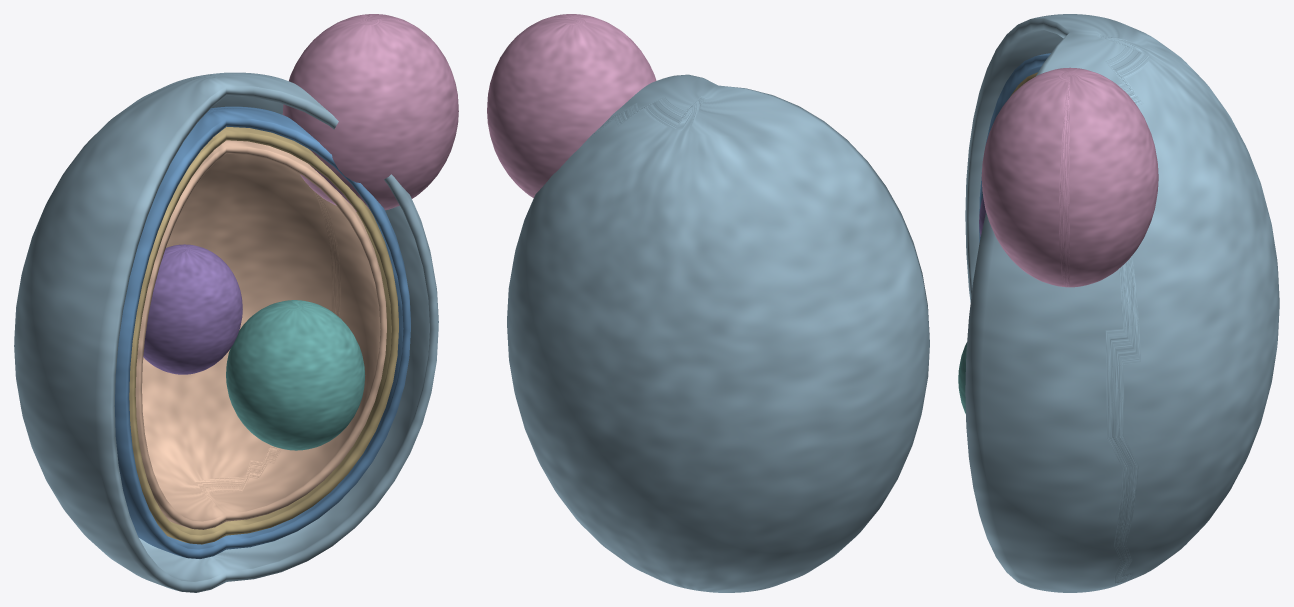
The model's file is cutaway.glb.
The picture shows the model from 3 angles, left to right: view 1: azimuth 30°, elevation 25°; view 2: azimuth 150°, elevation 25°; view 3: azimuth 270°, elevation 25°; orthographic projection. The views are drawn at different scales.
Visible parts, largest first — view 1: capsula_mesh, citoplasma_mesh, broto_mesh, parede_mesh, vacuolo_mesh, membrana_mesh, nucleo_mesh; view 2: capsula_mesh, broto_mesh; view 3: capsula_mesh, broto_mesh, parede_mesh.
Part boxes in pixels (x1=…): capsula_mesh: x1=14, y1=72, x2=438, y2=592; citoplasma_mesh: x1=135, y1=140, x2=386, y2=529; broto_mesh: x1=282, y1=14, x2=458, y2=211; parede_mesh: x1=114, y1=106, x2=410, y2=558; vacuolo_mesh: x1=226, y1=300, x2=365, y2=450; membrana_mesh: x1=129, y1=126, x2=398, y2=544; nucleo_mesh: x1=143, y1=244, x2=242, y2=374; capsula_mesh: x1=507, y1=74, x2=929, y2=592; broto_mesh: x1=487, y1=14, x2=656, y2=197; capsula_mesh: x1=965, y1=14, x2=1279, y2=592; broto_mesh: x1=981, y1=67, x2=1158, y2=287; parede_mesh: x1=979, y1=53, x2=1050, y2=242.
Size of the model in its own units: 2 by 2.44 by 1.24.
Materials: 7 (7 with a texture image).
